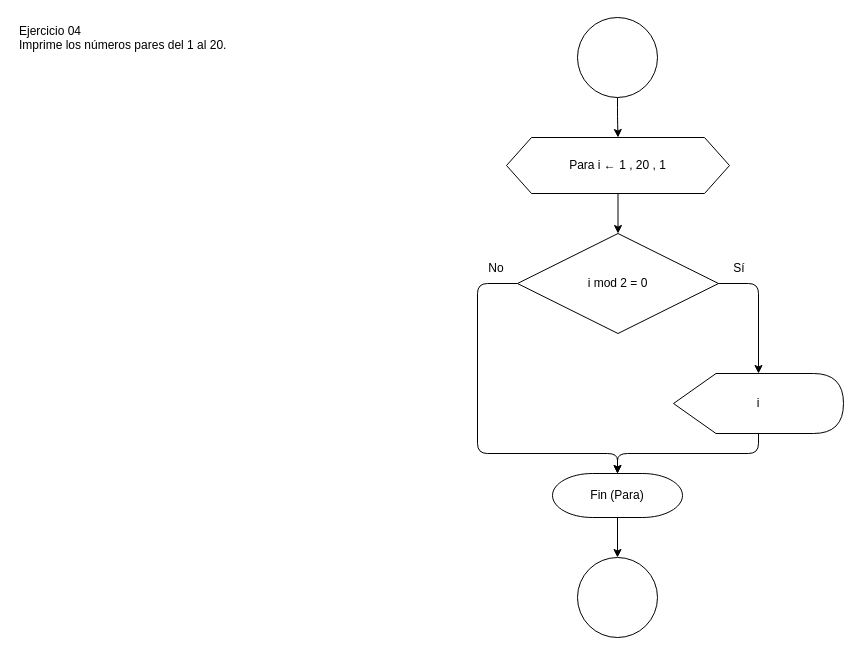
Some shapes in this 861 by 655 pixel diagram are drawn without their labels. The centre of each missing label's shape, as x and y in pixels:
"Fin" belongs at [617,597].
"Inicio" belongs at [617,57].
